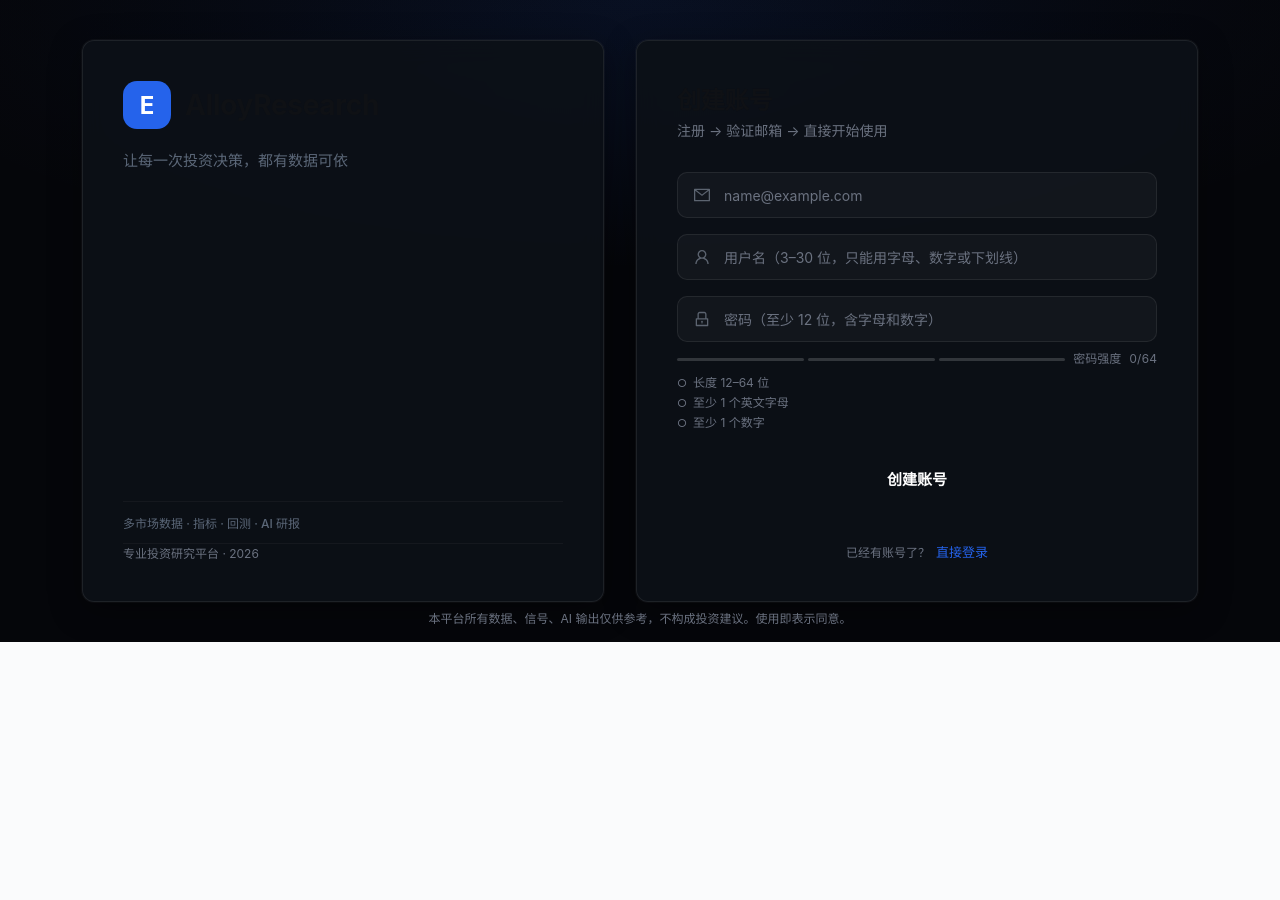
Test: 注册表单校验与提交流程 › 邮箱格式错误时给人话提示（400ms 防抖后）
This screenshot has width=1280, height=900.
Type "not-an-email" into the field named "邮箱" at (931, 195), box [722,172,1140,218]
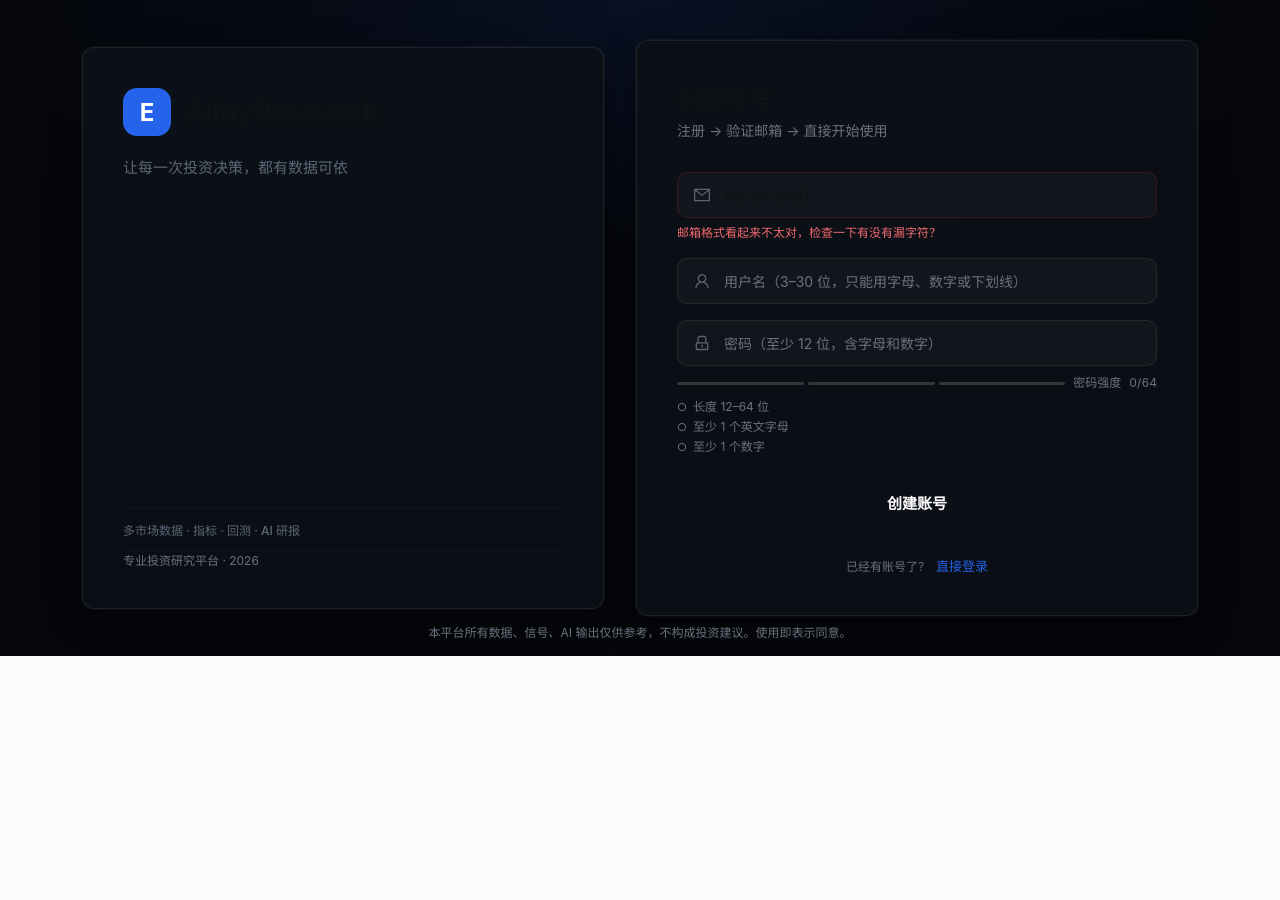
expect the text "邮箱格式看起来不太对，检查一下有没有漏字符？" is shown: met, box [677,225,941,240]
